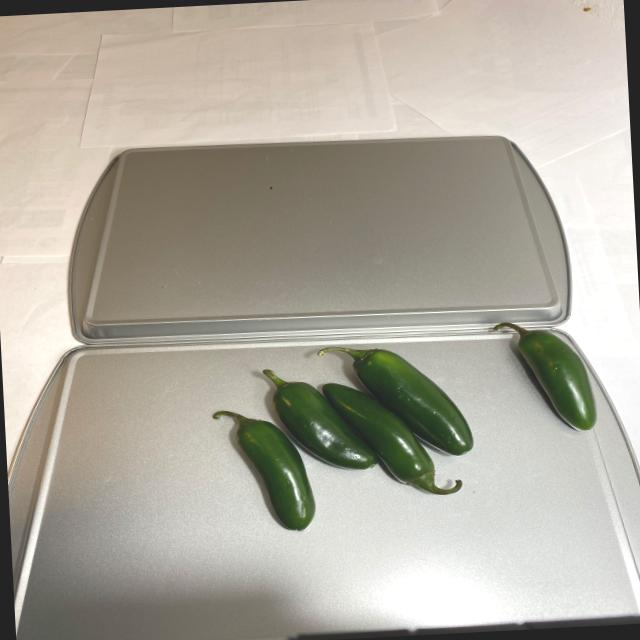chilli: (197, 314, 598, 540)
